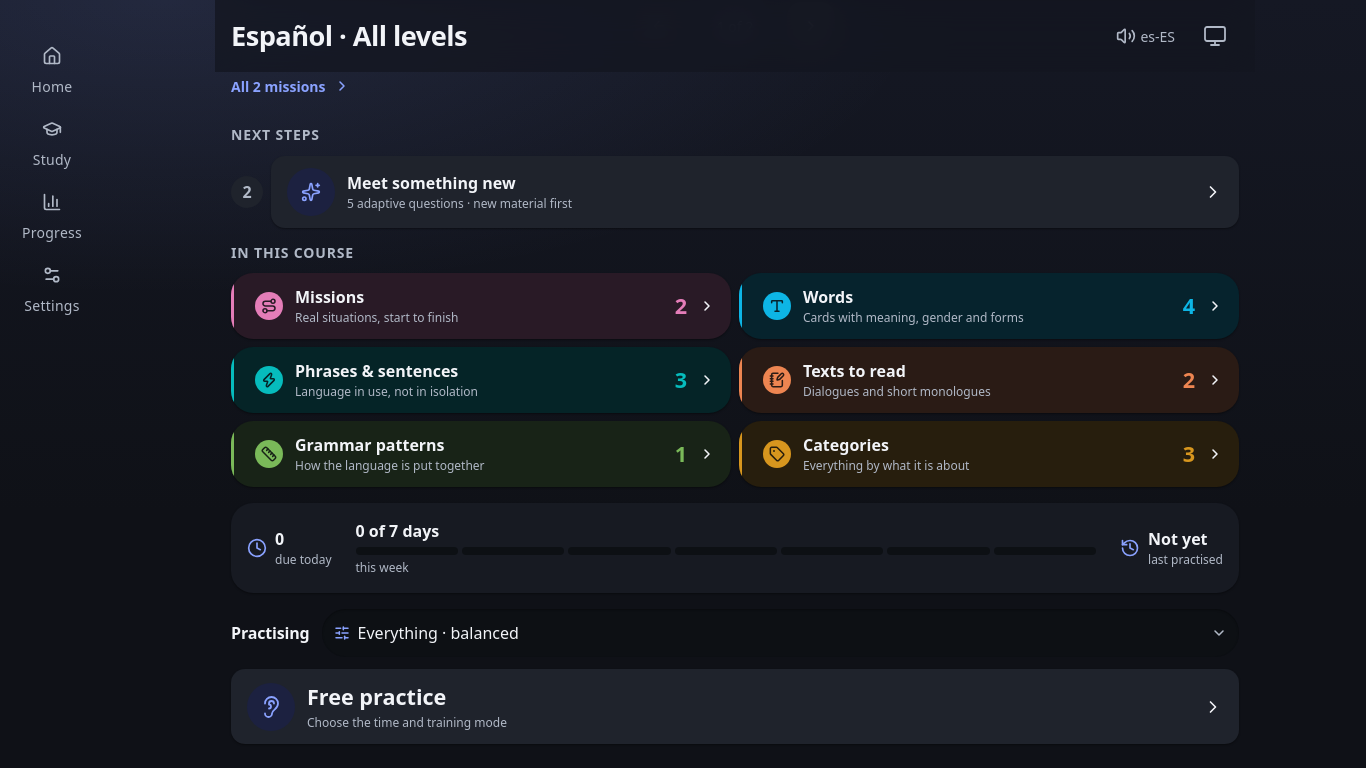
HomeScreen › offers quick sessions and practice presets
(page scrolled)
expect the heading "Español · All levels" is shown: met, box [231,17,467,54]
Click the button "Free practice Choose the time and training mode": (271, 707) [231,669,1239,744]
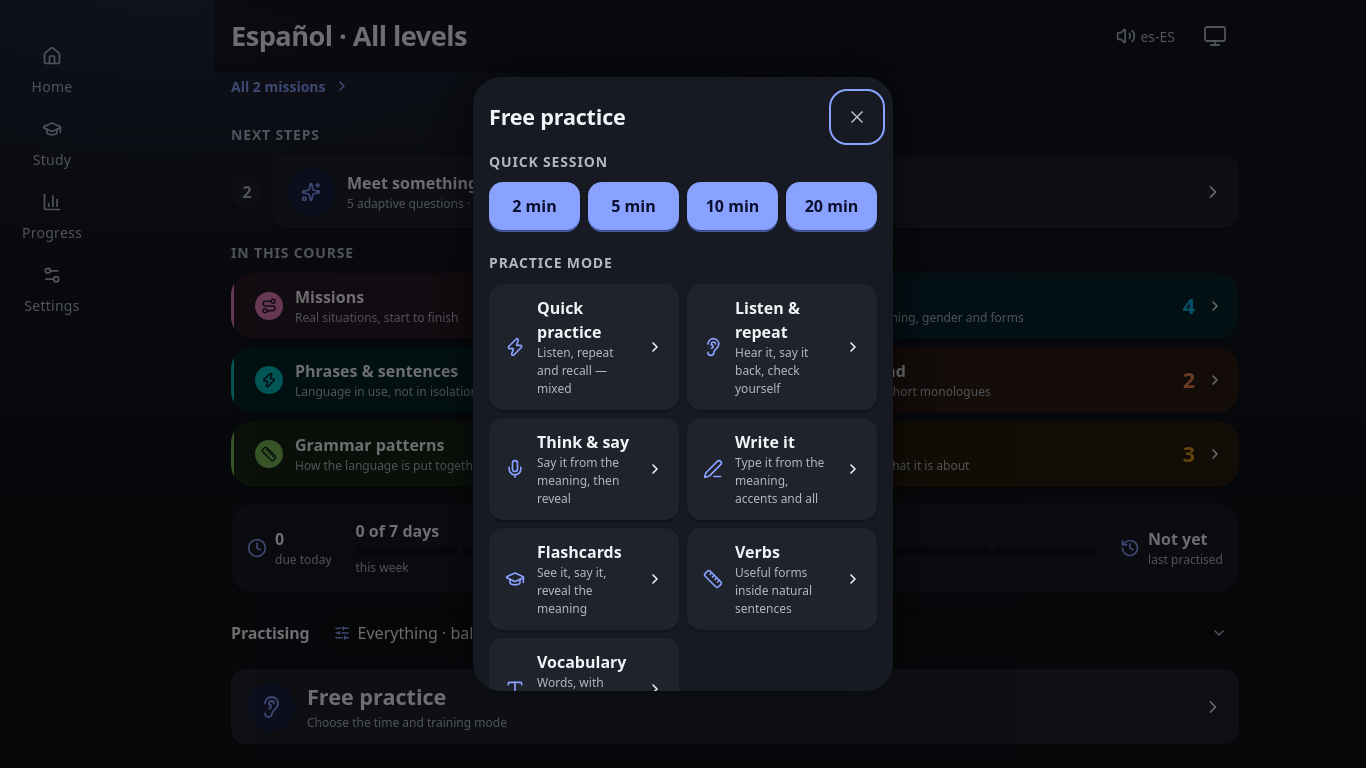
expect the button "5 min" is shown: met, box [588,182,679,230]
expect the button "Flashcards See it, say it, reveal the meaning" is shown: met, box [489,528,679,630]
